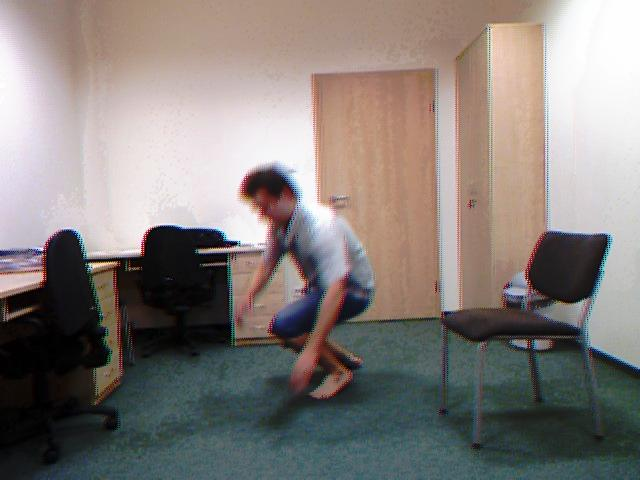near-fall: (234, 163, 377, 399)
